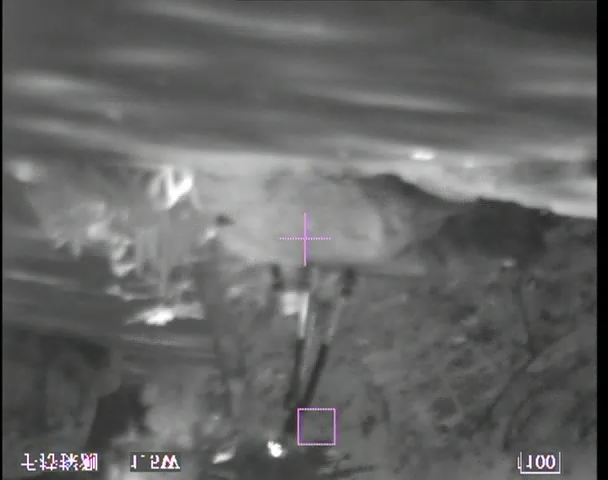my: (266, 441, 283, 458)
